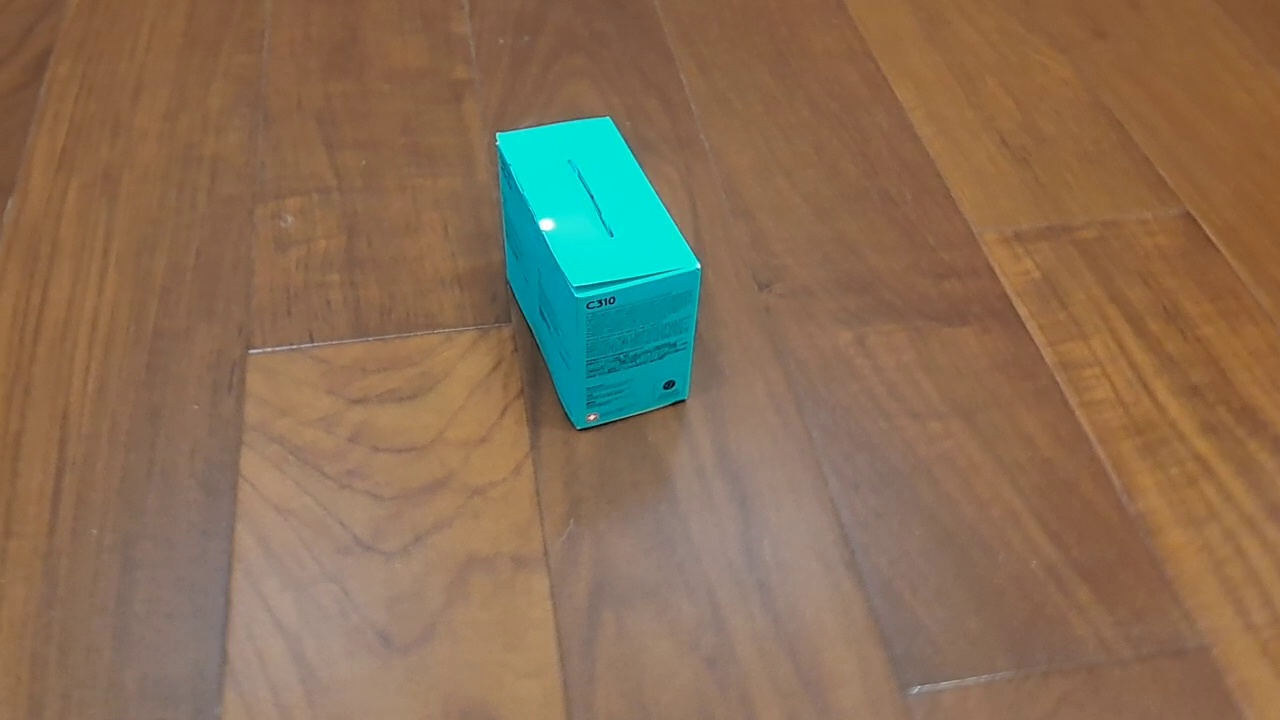webcam: (494, 114, 702, 431)
